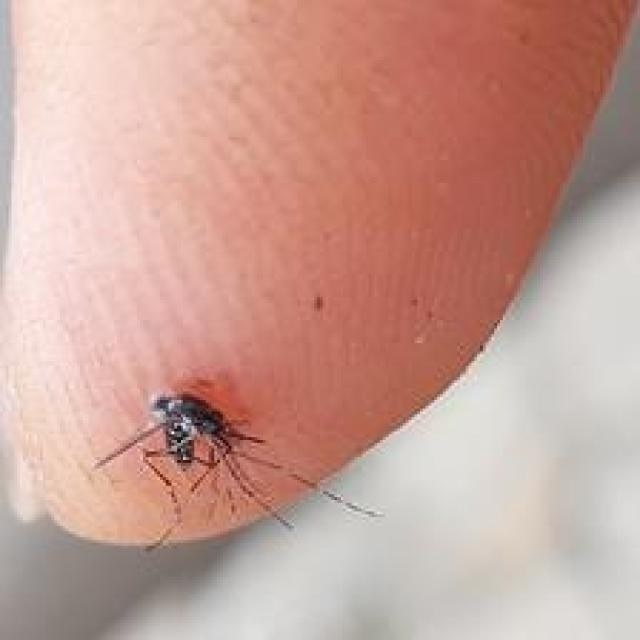Aedes albopictus: (91, 387, 383, 553)
